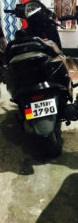DL758Y1790: (24, 97, 58, 120)
